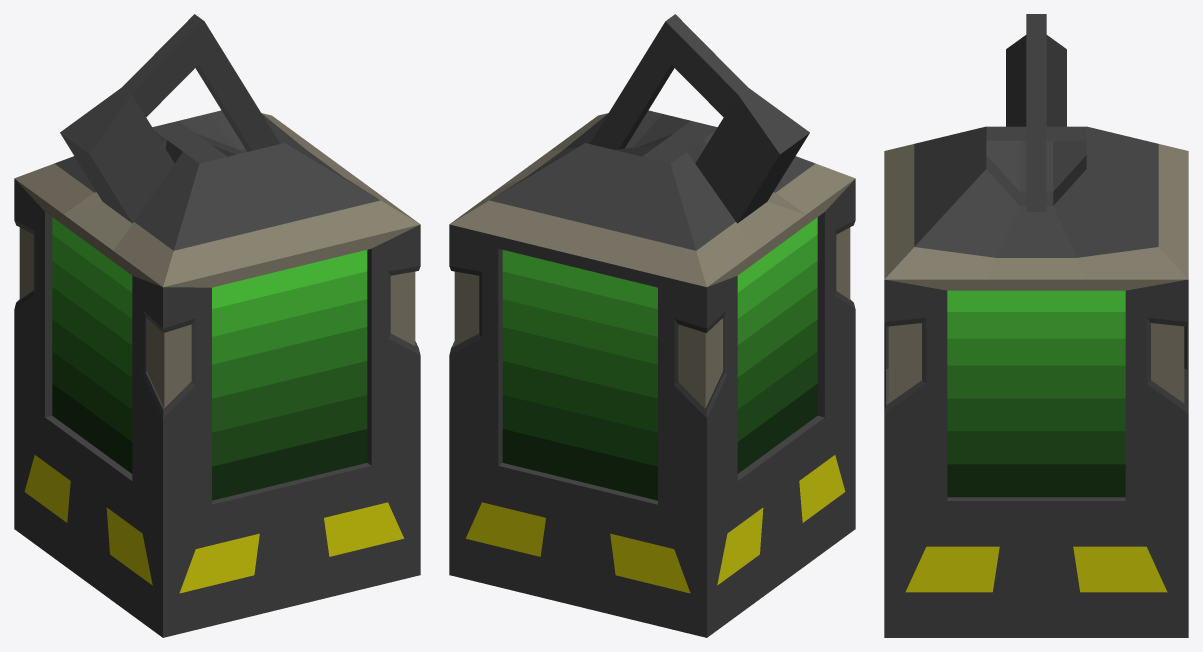
3 renders of one model, left to right at view 1: azimuth 30°, elevation 25°; view 2: azimuth 150°, elevation 25°; view 3: azimuth 270°, elevation 25°, orthographic. The views are drawn at different scales.
Parts seen in each view (by area): view 1: Cube; view 2: Cube; view 3: Cube.
Part boxes in pixels (<box>): Cube: <box>14,14,420,637</box>; Cube: <box>449,14,855,637</box>; Cube: <box>884,14,1188,637</box>.
Bounding box in the file's own units: 211 × 400 × 200.
